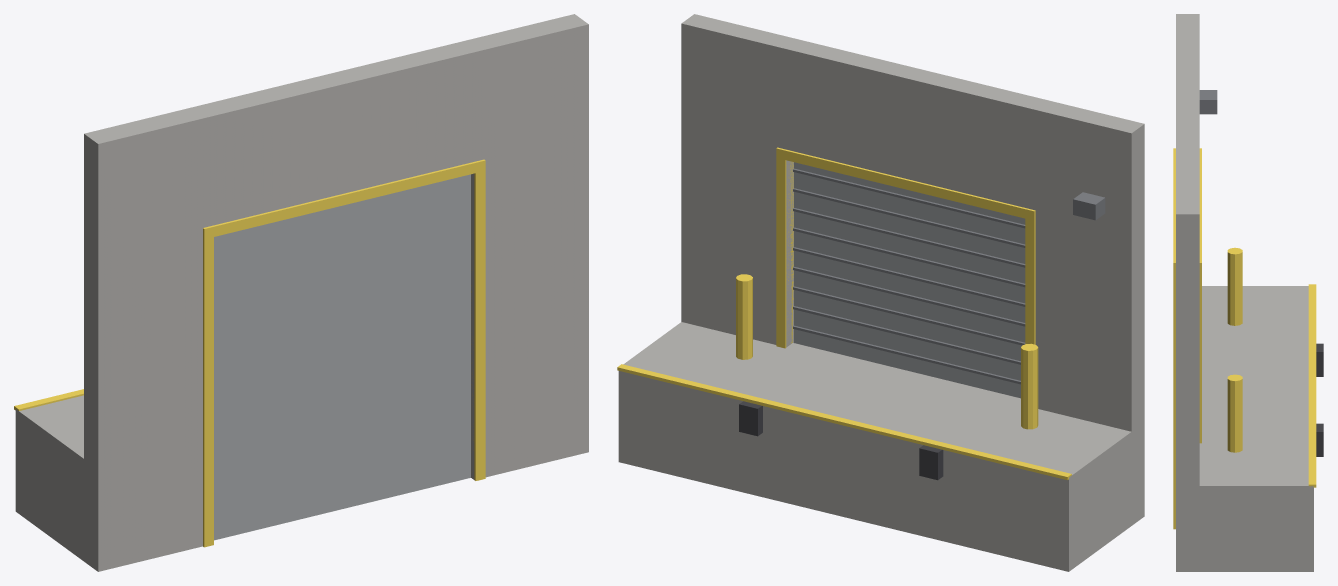
The model's file is loading_dock_door.glb.
3 views of the same model, side by side, from view 1: azimuth 30°, elevation 25°; view 2: azimuth 150°, elevation 25°; view 3: azimuth 270°, elevation 25° (orthographic). The views are drawn at different scales.
Visible parts, largest first — view 1: body; view 2: body; view 3: body.
Part boxes in pixels (left/top/right/bottom): body: left=14, top=14, right=588, bottom=571; body: left=617, top=14, right=1144, bottom=571; body: left=1173, top=14, right=1323, bottom=571.
Bounding box in the file's own units: 6 × 5 × 1.9.
